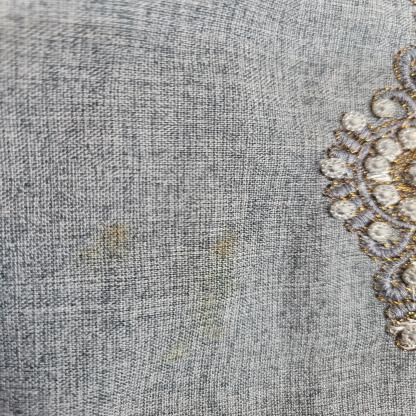spot: (186, 213, 254, 344), (92, 209, 144, 265)
